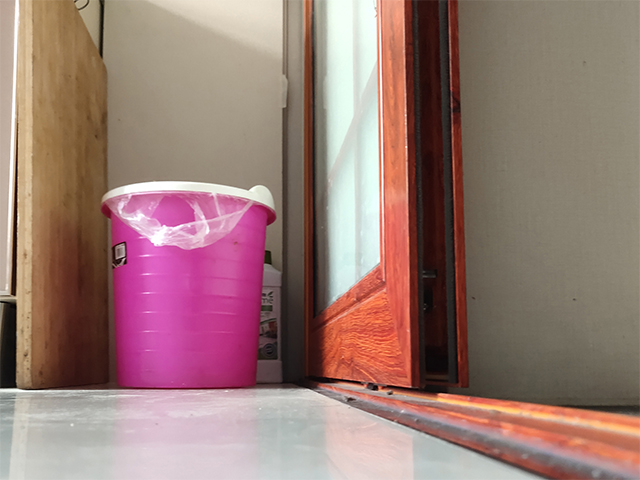trashcan: (99, 180, 277, 392)
